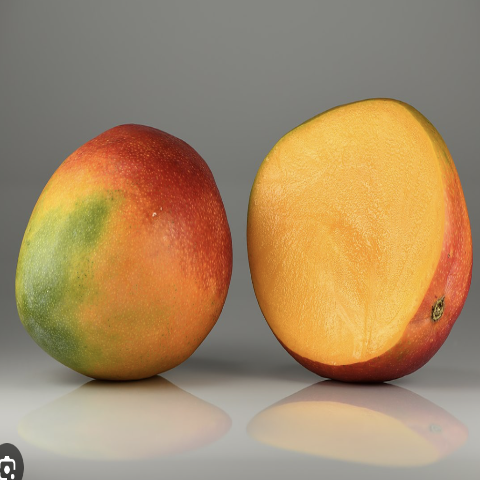mango: (243, 84, 478, 413), (10, 119, 238, 409)
